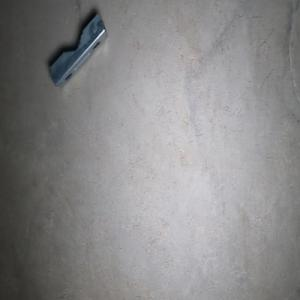ClampPart: (48, 11, 109, 88)
